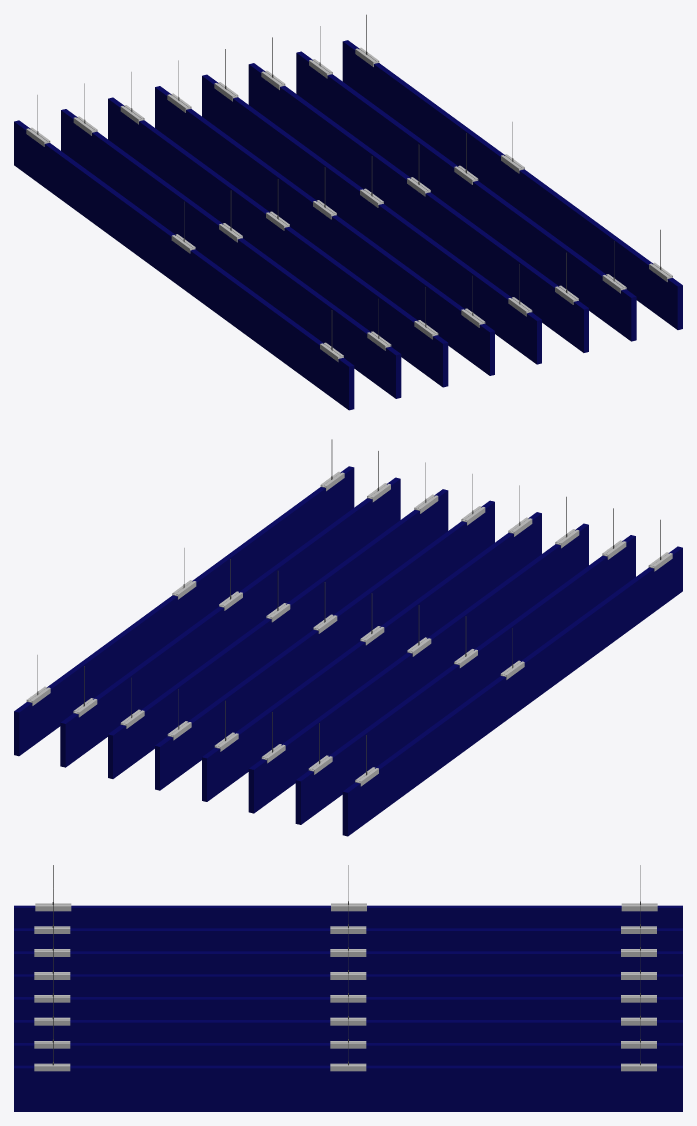
File: baffle-unit.fbx
3 views of the same model, one above another, from view 1: azimuth 30°, elevation 25°; view 2: azimuth 150°, elevation 25°; view 3: azimuth 270°, elevation 25° (orthographic).
Visible parts, largest first — view 1: Group69, Group89, Group71, Group77, Group93, Group81, Group85, Group97; view 2: Group69, Group89, Group93, Group71, Group77, Group81, Group85, Group97; view 3: Group97, Group69, Group71, Group77, Group85, Group89, Group93, Group81.
Boxes of the visible parts, x1,y1,x2,y2 form: Group69: (14, 120, 354, 410); Group89: (296, 51, 636, 341); Group71: (61, 109, 401, 398); Group77: (108, 97, 448, 387); Group93: (248, 63, 588, 352); Group81: (155, 86, 494, 375); Group85: (202, 74, 541, 364); Group97: (342, 40, 682, 329); Group69: (342, 546, 682, 836); Group89: (60, 477, 400, 767); Group93: (108, 489, 448, 778); Group71: (295, 535, 635, 824); Group77: (248, 523, 588, 813); Group81: (202, 512, 541, 801); Group85: (155, 500, 494, 790); Group97: (14, 466, 354, 756); Group97: (14, 1065, 682, 1111); Group69: (14, 905, 682, 928); Group71: (14, 928, 682, 951); Group77: (14, 951, 682, 974); Group85: (14, 997, 682, 1019); Group89: (14, 1043, 682, 1065); Group93: (14, 1020, 682, 1042); Group81: (14, 974, 682, 996).
Bounding box in the file's own units: 16031 × 3908 × 27800.
